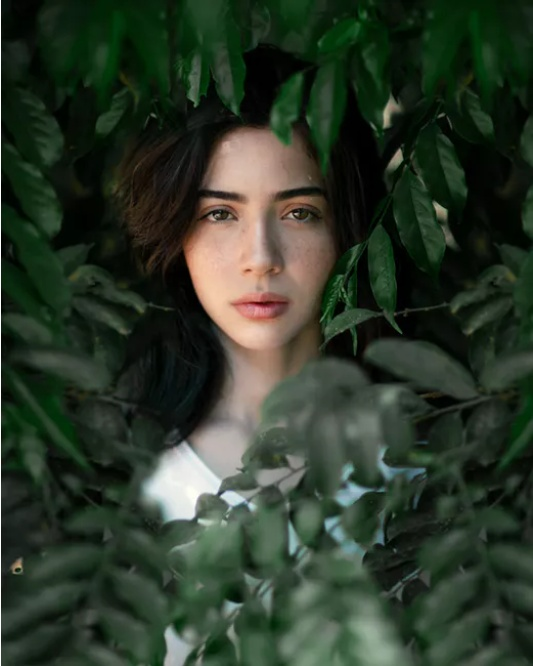face: (181, 133, 334, 348)
